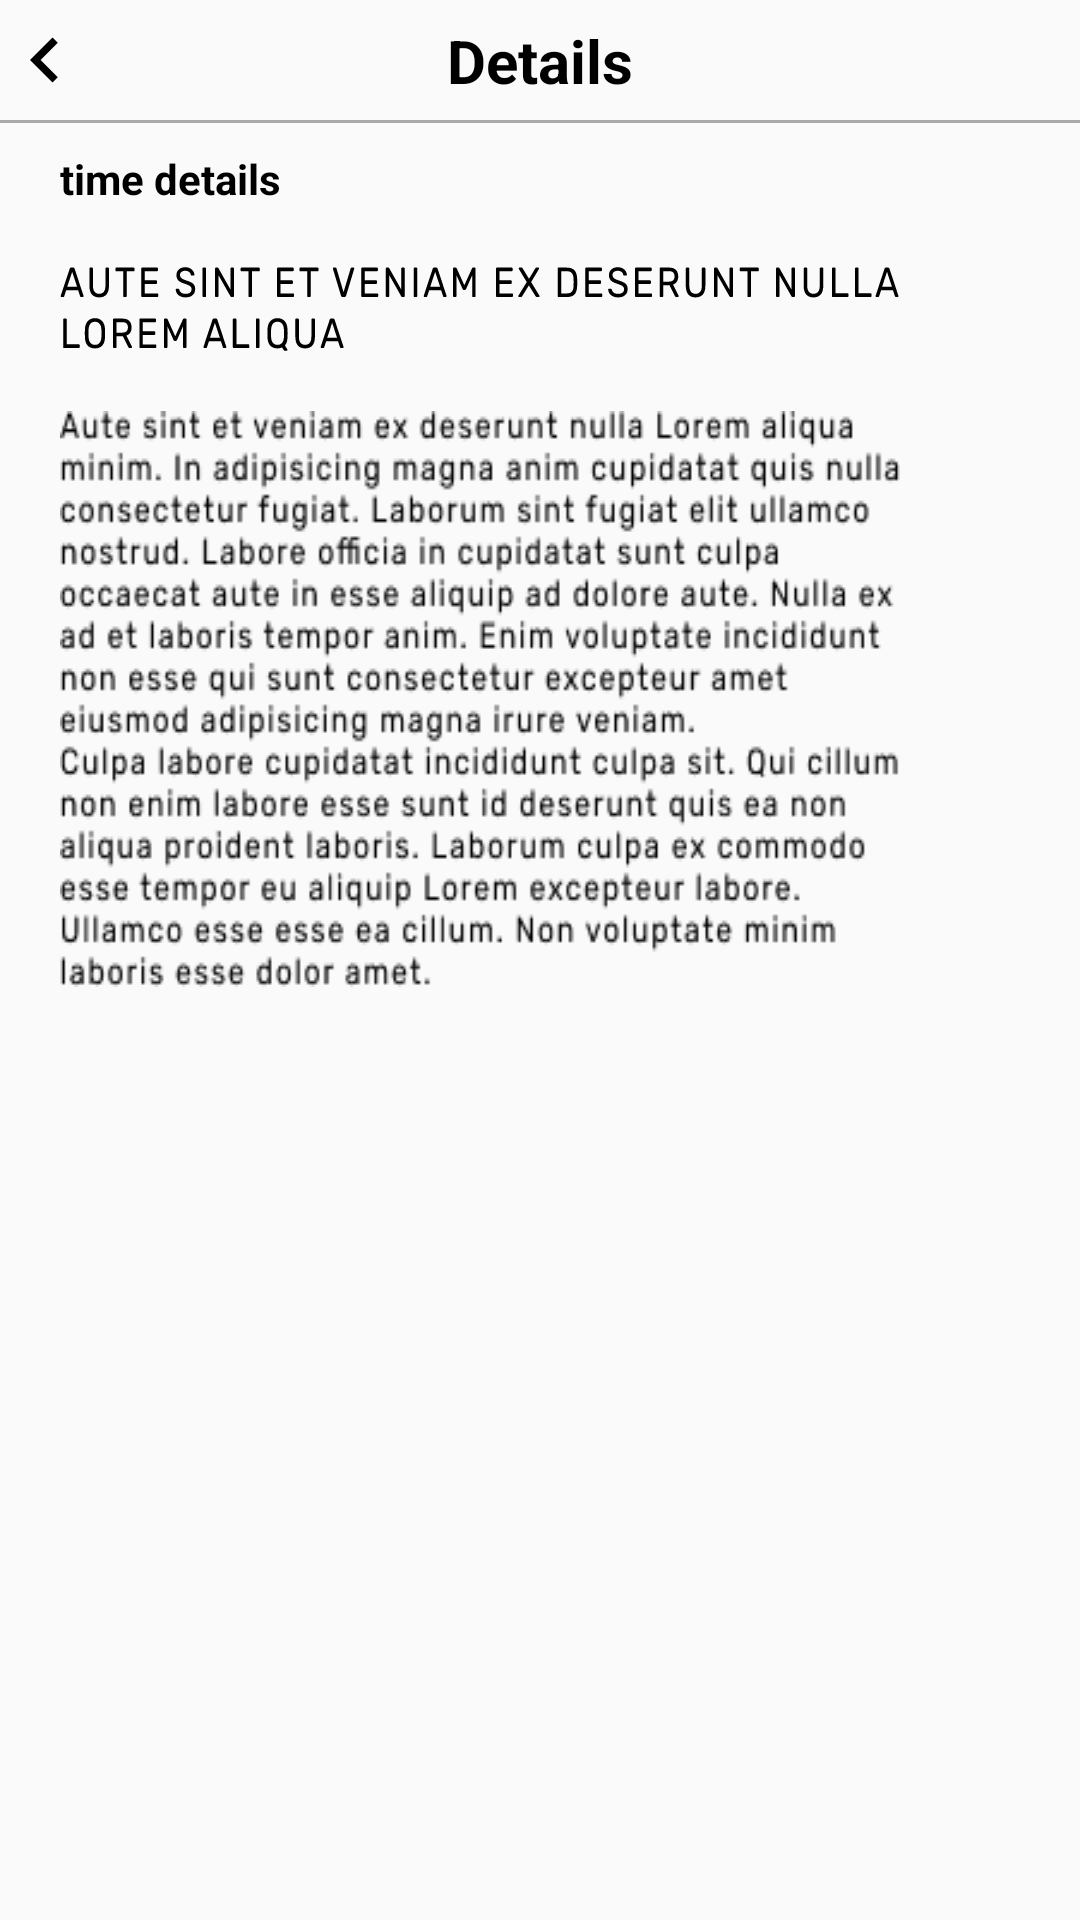

Where to tap for icons on this 1080x1920 app screen, as [x,y]:
chevron left: [44,60]
